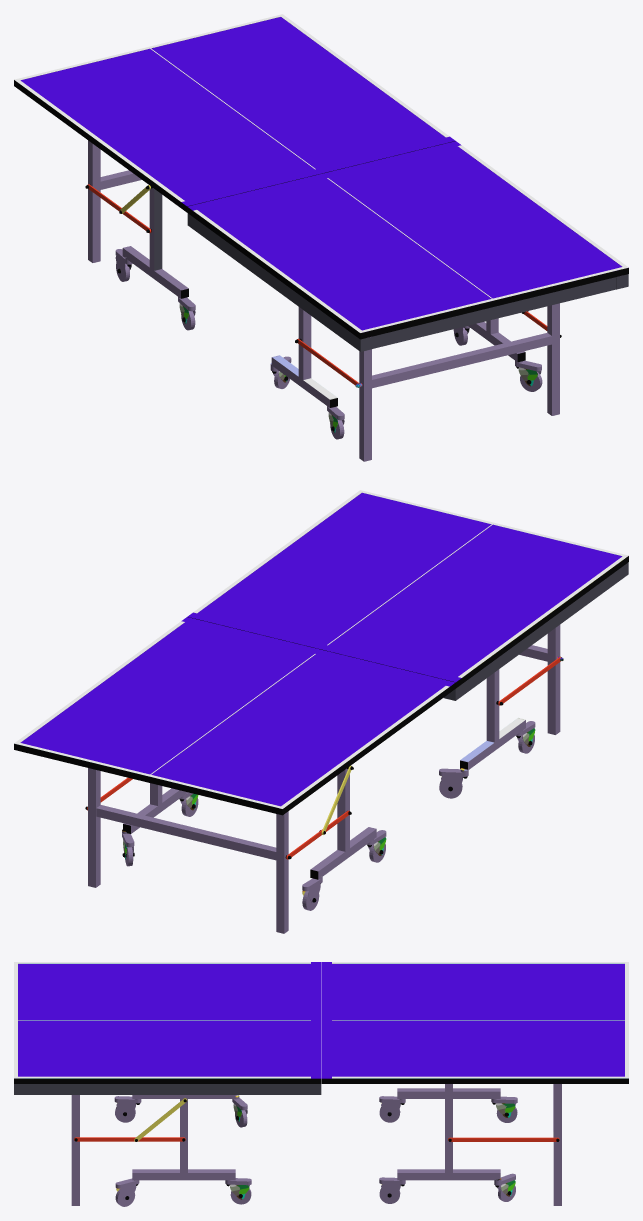
File: MesaPingPongUnity.fbx
3 views of the same model, one above another, from view 1: azimuth 30°, elevation 25°; view 2: azimuth 150°, elevation 25°; view 3: azimuth 270°, elevation 25° (orthographic). The views are drawn at different scales.
Parts seen in each view (by area): view 1: mesa, ruedita2; view 2: mesa, ruedita4; view 3: mesa, ruedita5, ruedita1, ruedita6, ruedita3, ruedita8, ruedita2, ruedita7, ruedita4.
Boxes of the visible parts, <box> form: mesa: <box>14,14,628,461</box>; ruedita2: <box>515,360,542,391</box>; mesa: <box>14,490,628,933</box>; ruedita4: <box>439,768,468,798</box>; mesa: <box>14,962,628,1205</box>; ruedita5: <box>379,1177,405,1203</box>; ruedita1: <box>114,1096,141,1122</box>; ruedita6: <box>379,1096,405,1122</box>; ruedita3: <box>225,1178,251,1204</box>; ruedita8: <box>491,1096,517,1122</box>; ruedita2: <box>115,1178,139,1206</box>; ruedita7: <box>494,1173,515,1201</box>; ruedita4: <box>232,1095,247,1127</box>.
Bounding box in the file's own units: 135 × 77.26 × 300.
8 materials, 8 textured.
